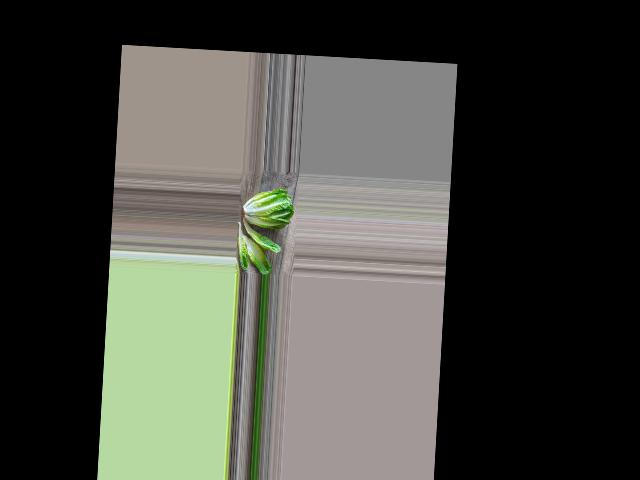lettuce: (242, 185, 294, 232)
